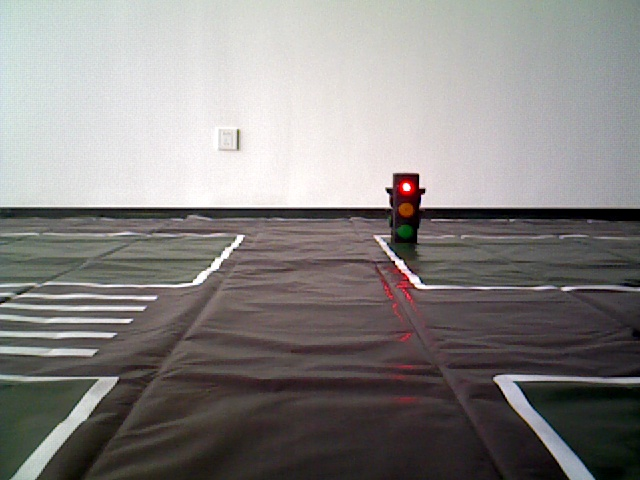red: (394, 175, 419, 244)
